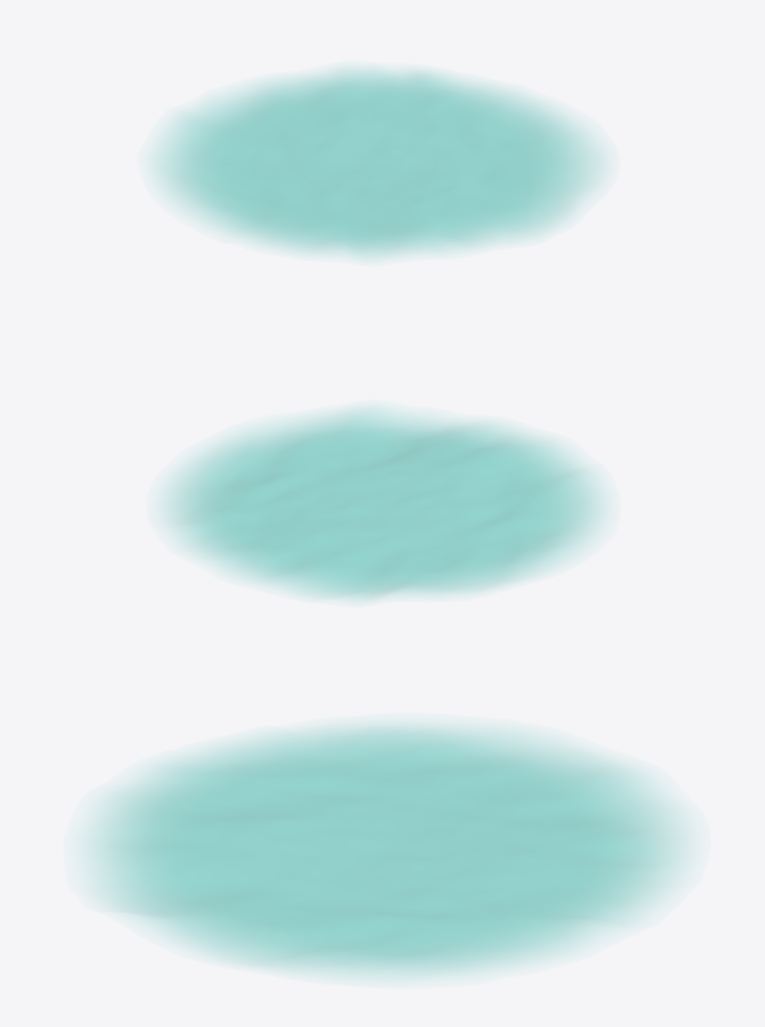
Rendered from oceanAndLight.glb.
3 views of the same model, one above another, from view 1: azimuth 30°, elevation 25°; view 2: azimuth 150°, elevation 25°; view 3: azimuth 270°, elevation 25° (orthographic). The views are drawn at different scales.
Parts seen in each view (by area): view 1: eau_LR; view 2: eau_LR; view 3: eau_LR.
Part boxes in pixels (x1,y1,x2,y2): eau_LR: [157, 70, 600, 256]; eau_LR: [166, 409, 600, 599]; eau_LR: [91, 726, 682, 975].
Size of what is drawn, in the model's own units: 1385 by 31.31 by 1380.
Materials: 1 (1 with a texture image).
